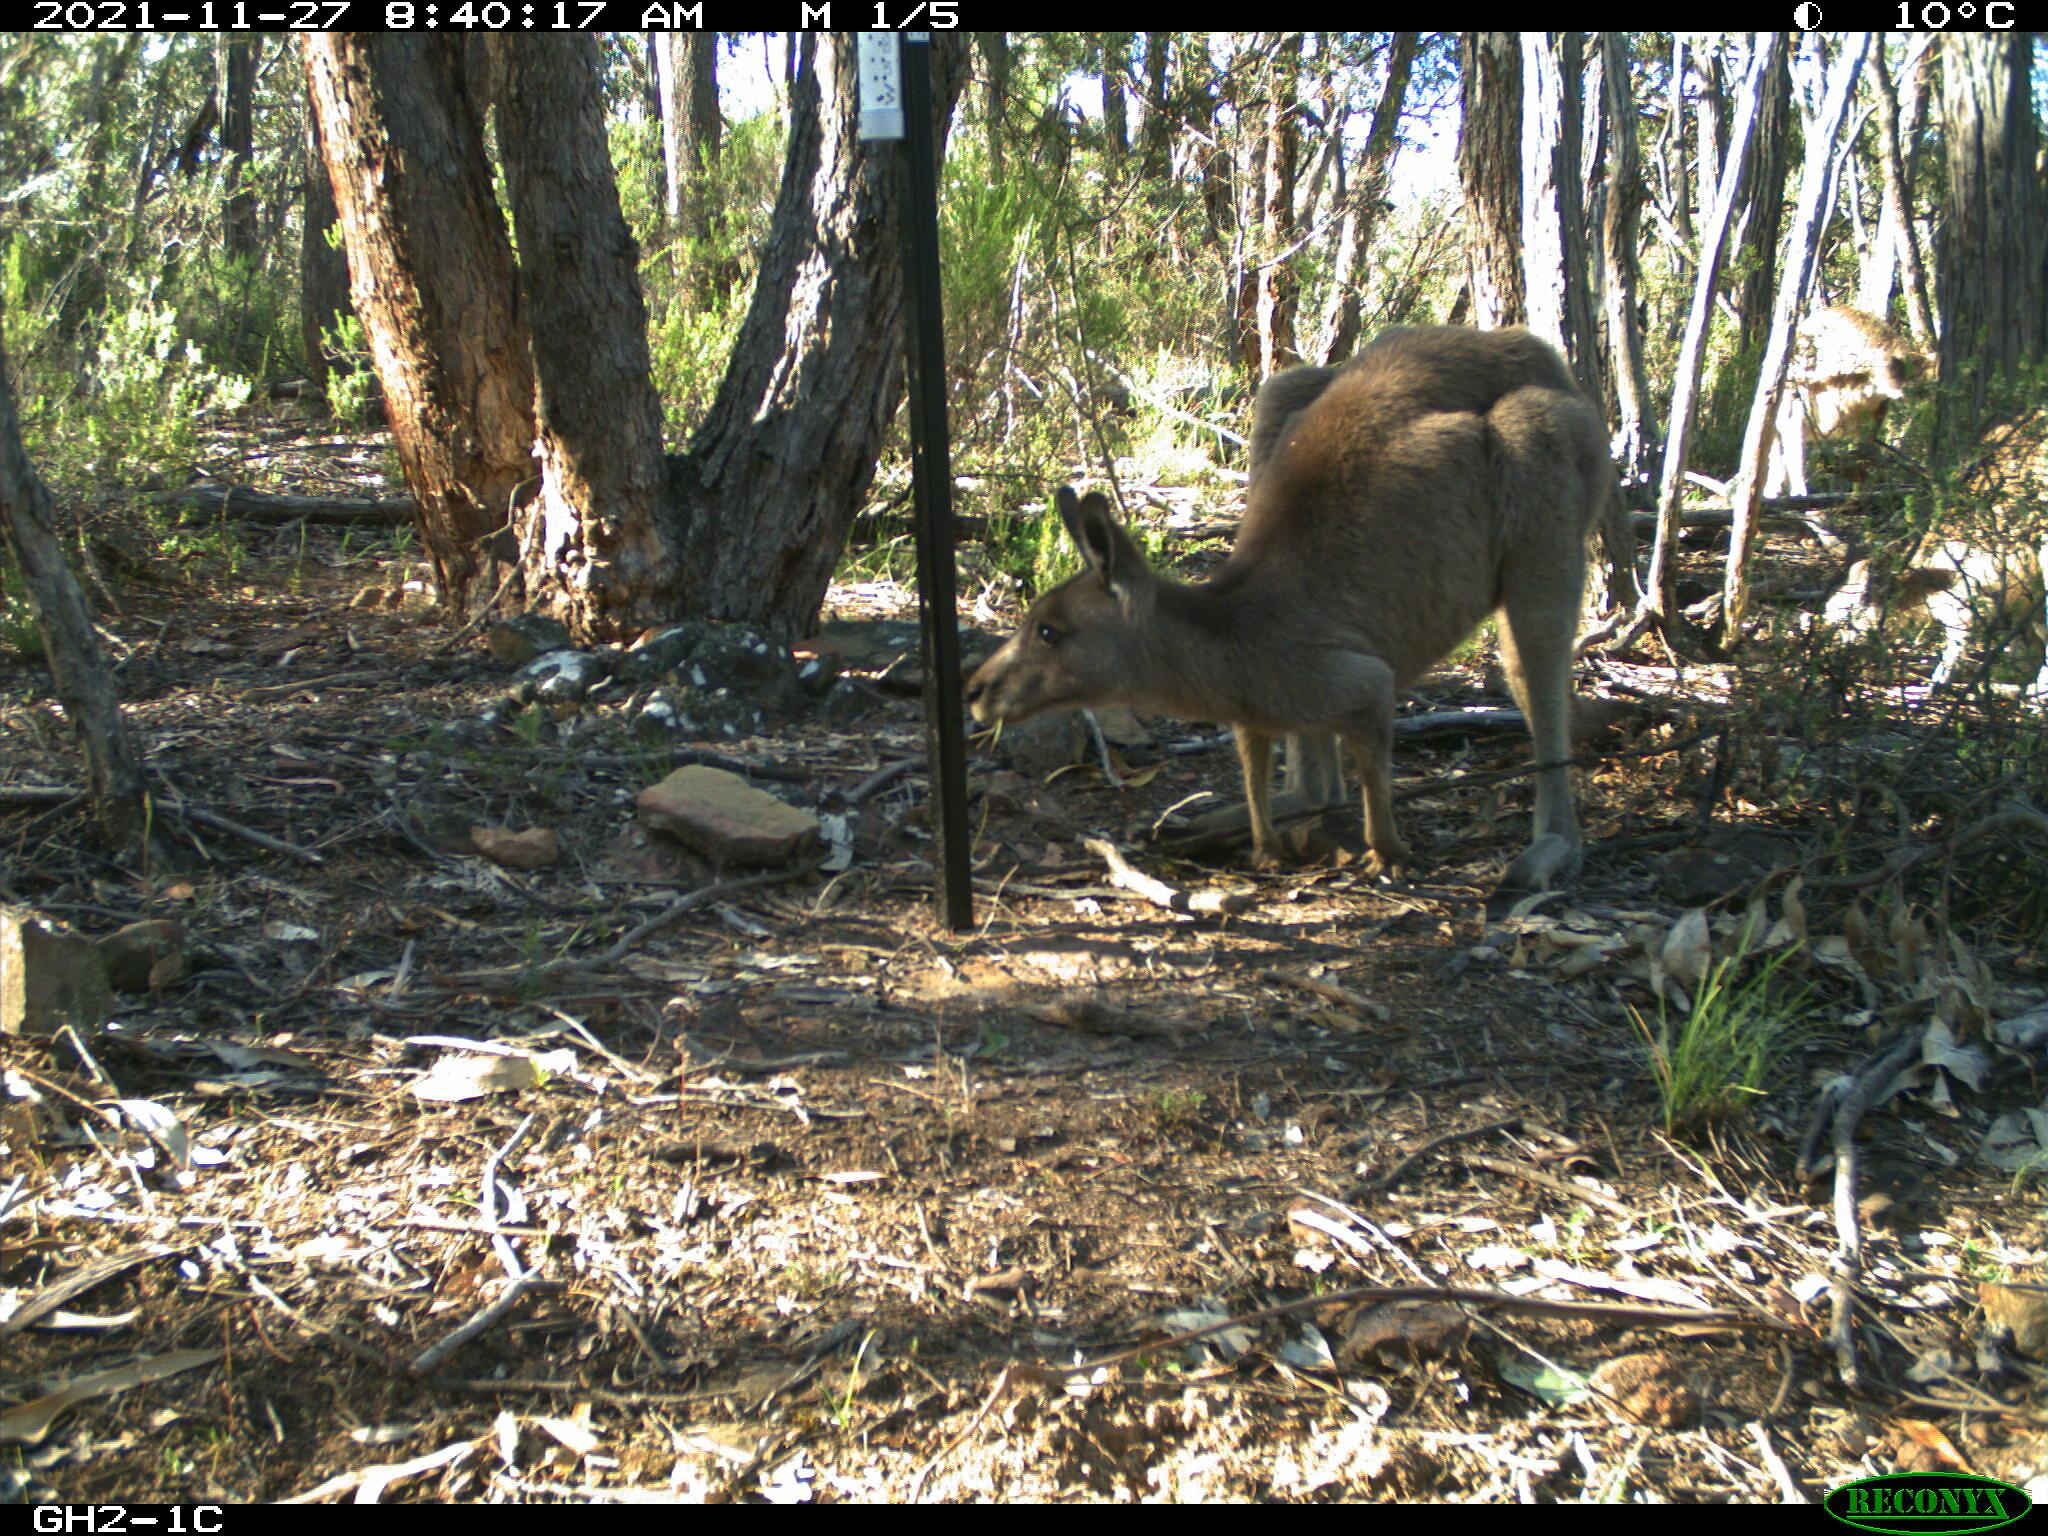Eastern grey kangaroo: (972, 323, 1640, 925)
